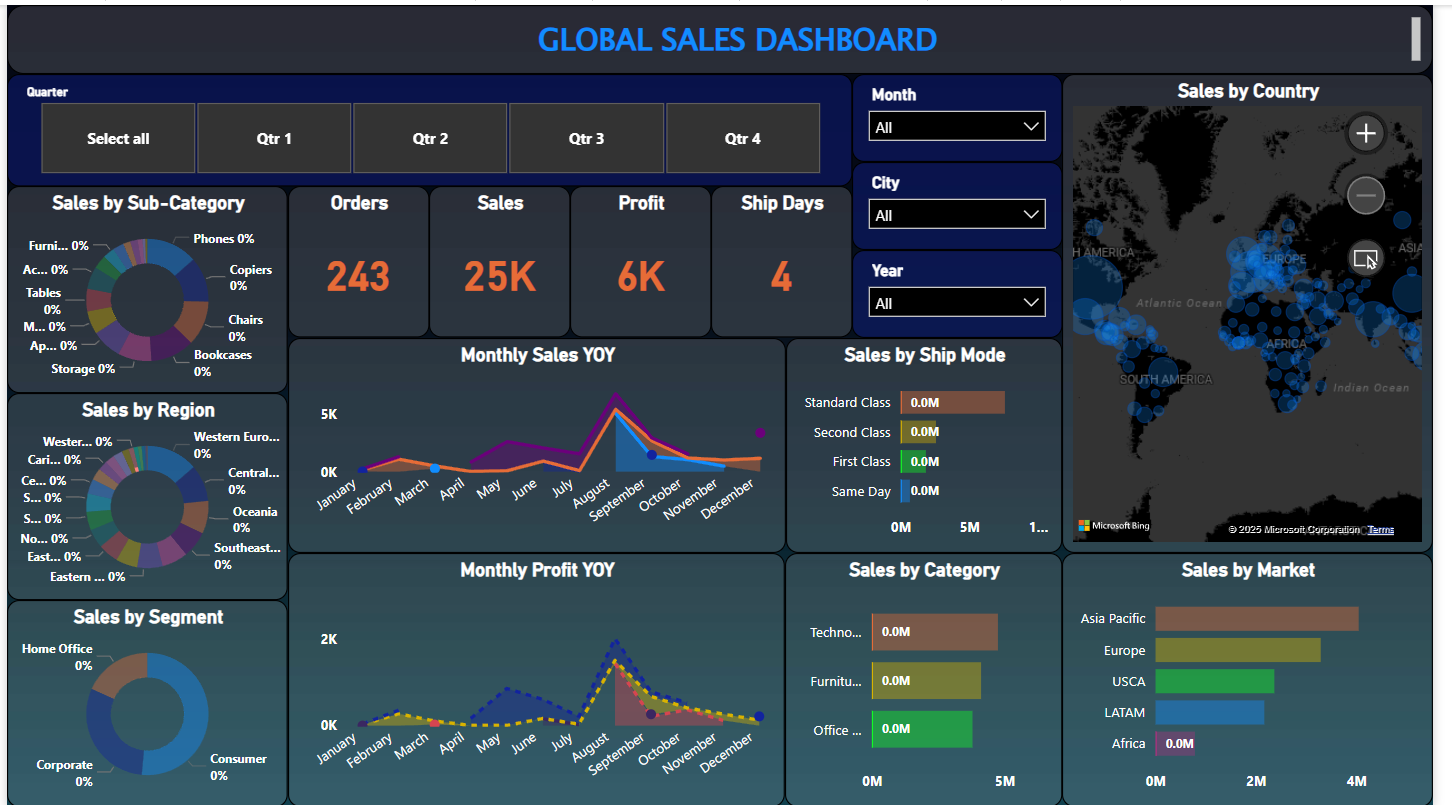

This screenshot's page, from the dashboard's own definition file:
{"tool":"powerbi","page":{"name":"Sales Dashboard ","canvas":[1280,720],"ordinal":0},"visuals":[{"type":"textbox","box":[0,0,1280.2,61.9],"z":0},{"type":"card","title":"Orders","fields":{"Values":["Sum(Orders.Quantity)"]},"box":[252.3,162.5,126.6,136.5],"z":0,"group":"g1"},{"type":"card","title":"Sales","fields":{"Values":["Sum(Orders.Sales)"]},"box":[378.9,162.5,126.6,136.5],"z":1000,"group":"g1"},{"type":"clusteredBarChart","title":"Sales by Ship Mode","fields":{"Y":["Sum(Orders.Sales)"],"Category":["Orders.Ship Mode"]},"box":[702.2,298.6,248,193.6],"z":1000},{"type":"card","title":"Profit","fields":{"Values":["Sum(Orders.Profit)"]},"box":[505.5,162.5,126.6,136.5],"z":2000,"group":"g1"},{"type":"clusteredBarChart","title":"Sales by Category ","fields":{"Y":["Sum(Orders.Sales)"],"Category":["Orders.Category"]},"box":[698.5,492,248.7,228],"z":2000},{"type":"card","title":"Ship Days","fields":{"Values":["Avg(Orders.Avg. Delivery Days)"]},"box":[632.1,162.5,126.6,136.5],"z":3000,"group":"g1"},{"type":"clusteredBarChart","title":"Sales by Market","fields":{"Y":["Sum(Orders.Sales)"],"Category":["Orders.Market"]},"box":[947.1,492,333.1,228],"z":3000},{"type":"map","title":"Sales by Country","fields":{"Size":["Sum(Orders.Sales)"],"Category":["Orders.Country"]},"box":[947.1,61.9,333.1,430],"z":4000},{"type":"stackedAreaChart","title":"Monthly Sales YOY","fields":{"Y":["Sum(Orders.Sales)"],"Category":["Orders.Order Date.Variation.Date Hierarchy.Month"],"Series":["Orders.Order Date.Variation.Date Hierarchy.Year"]},"box":[252.3,299,447.1,193],"z":5000},{"type":"stackedAreaChart","title":"Monthly Profit YOY","fields":{"Y":["Sum(Orders.Profit)"],"Category":["Orders.Order Date.Variation.Date Hierarchy.Month"],"Series":["Orders.Order Date.Variation.Date Hierarchy.Year"]},"box":[252.3,492,446.2,228],"z":6000},{"type":"donutChart","title":"Sales by Sub-Category","fields":{"Category":["Orders.Sub-Category"],"Y":["Sum(Orders.Sales)"]},"box":[0,162.5,252.3,185.8],"z":7000},{"type":"donutChart","title":"Sales by Region","fields":{"Category":["Orders.Region"],"Y":["Sum(Orders.Sales)"]},"box":[0,348.3,252.3,185.8],"z":8000},{"type":"donutChart","title":"Sales by Segment","fields":{"Category":["Orders.Segment"],"Y":["Sum(Orders.Sales)"]},"box":[0,534.2,252.3,185.8],"z":9000},{"type":"group","id":"g1","title":"Group 1","box":[252.3,162.5,506.3,136.5],"z":10000},{"type":"slicer","fields":{"Values":["Orders.City"]},"box":[758.6,140.9,188.5,79],"z":11000},{"type":"slicer","fields":{"Values":["Orders.Order Date.Variation.Date Hierarchy.Year"]},"box":[758.6,220,188.5,79],"z":12000},{"type":"slicer","fields":{"Values":["Orders.Order Date.Variation.Date Hierarchy.Month"]},"box":[758.6,61.9,188.5,79],"z":13000},{"type":"slicer","fields":{"Values":["Orders.Order Date.Variation.Date Hierarchy.Quarter"]},"box":[0,61.9,758.6,100.5],"z":14000}]}

Visuals, with their boxes in screenshot pixels (x1, y1, x2, y2), scaled from the page's 1280x720 canvas onto the 1452x805 screenshot:
textbox: [x1=0, y1=0, x2=1451, y2=69]
"Orders" card: [x1=286, y1=182, x2=430, y2=334]
"Sales" card: [x1=430, y1=182, x2=573, y2=334]
"Sales by Ship Mode" clusteredBarChart: [x1=797, y1=334, x2=1078, y2=550]
"Profit" card: [x1=573, y1=182, x2=717, y2=334]
"Sales by Category " clusteredBarChart: [x1=792, y1=550, x2=1074, y2=804]
"Ship Days" card: [x1=717, y1=182, x2=861, y2=334]
"Sales by Market" clusteredBarChart: [x1=1074, y1=550, x2=1451, y2=804]
"Sales by Country" map: [x1=1074, y1=69, x2=1451, y2=550]
"Monthly Sales YOY" stackedAreaChart: [x1=286, y1=334, x2=793, y2=550]
"Monthly Profit YOY" stackedAreaChart: [x1=286, y1=550, x2=792, y2=804]
"Sales by Sub-Category" donutChart: [x1=0, y1=182, x2=286, y2=389]
"Sales by Region" donutChart: [x1=0, y1=389, x2=286, y2=597]
"Sales by Segment" donutChart: [x1=0, y1=597, x2=286, y2=804]
"Group 1" group: [x1=286, y1=182, x2=861, y2=334]
slicer - Orders.City: [x1=861, y1=158, x2=1074, y2=246]
slicer - Orders.Order Date.Variation.Date Hierarchy.Year: [x1=861, y1=246, x2=1074, y2=334]
slicer - Orders.Order Date.Variation.Date Hierarchy.Month: [x1=861, y1=69, x2=1074, y2=158]
slicer - Orders.Order Date.Variation.Date Hierarchy.Quarter: [x1=0, y1=69, x2=861, y2=182]
